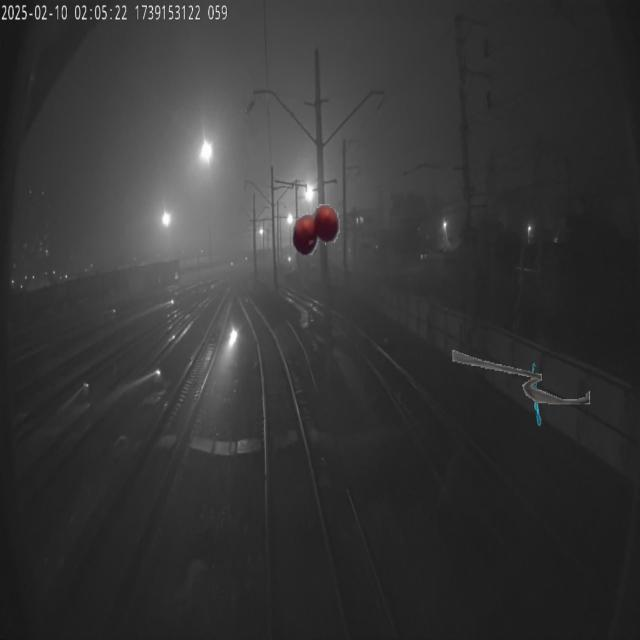balloon: (291, 194, 340, 258)
floating object: (451, 346, 590, 428)
